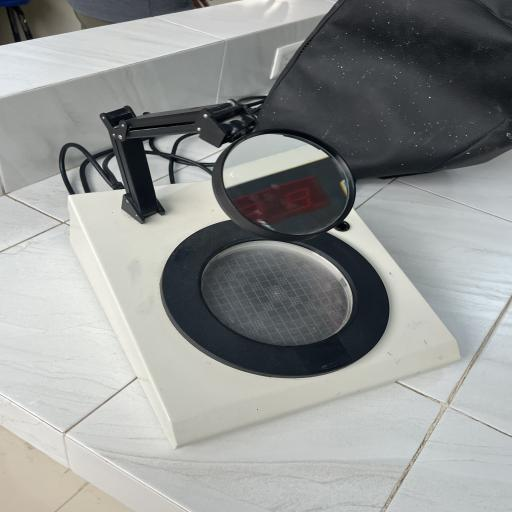Contador_Colonias_CC1: (48, 92, 473, 451)
